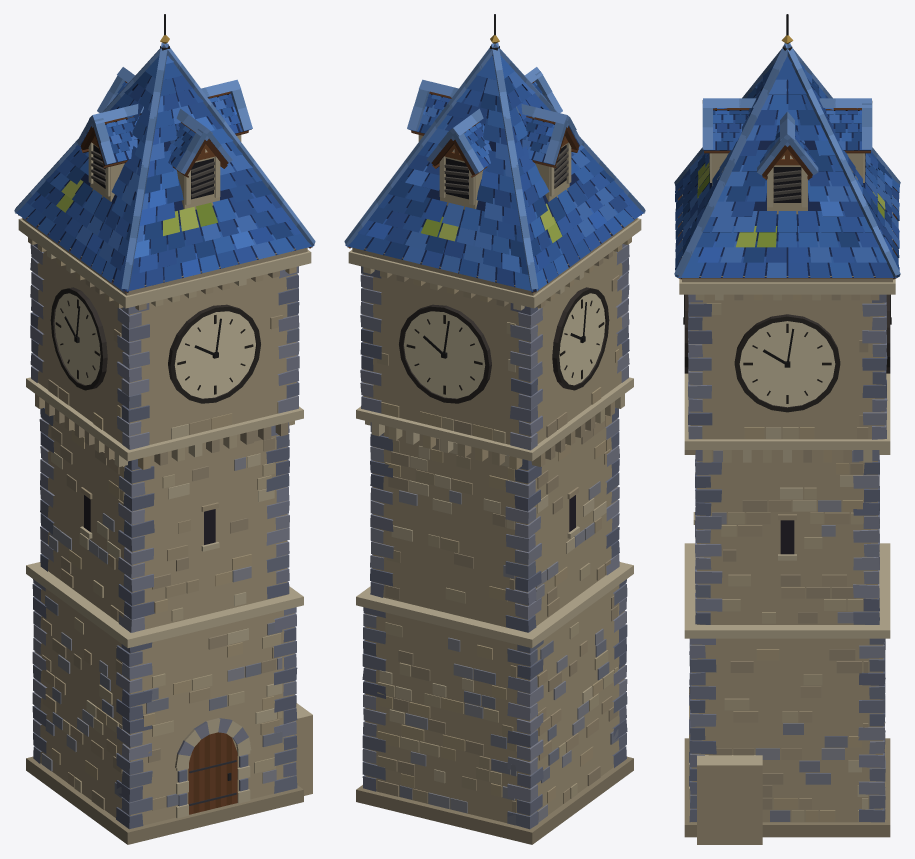
File: town_clock_tower.glb
3 renders of one model, left to right at view 1: azimuth 30°, elevation 25°; view 2: azimuth 150°, elevation 25°; view 3: azimuth 270°, elevation 25°, orthographic.
Visible parts, largest first — view 1: town_clock_tower; view 2: town_clock_tower; view 3: town_clock_tower.
Part boxes in pixels (<box>): town_clock_tower: <box>14,14,315,844</box>; town_clock_tower: <box>344,14,645,844</box>; town_clock_tower: <box>674,14,900,844</box>.
Size of the model in its own units: 8.53 by 31.4 by 8.27.
